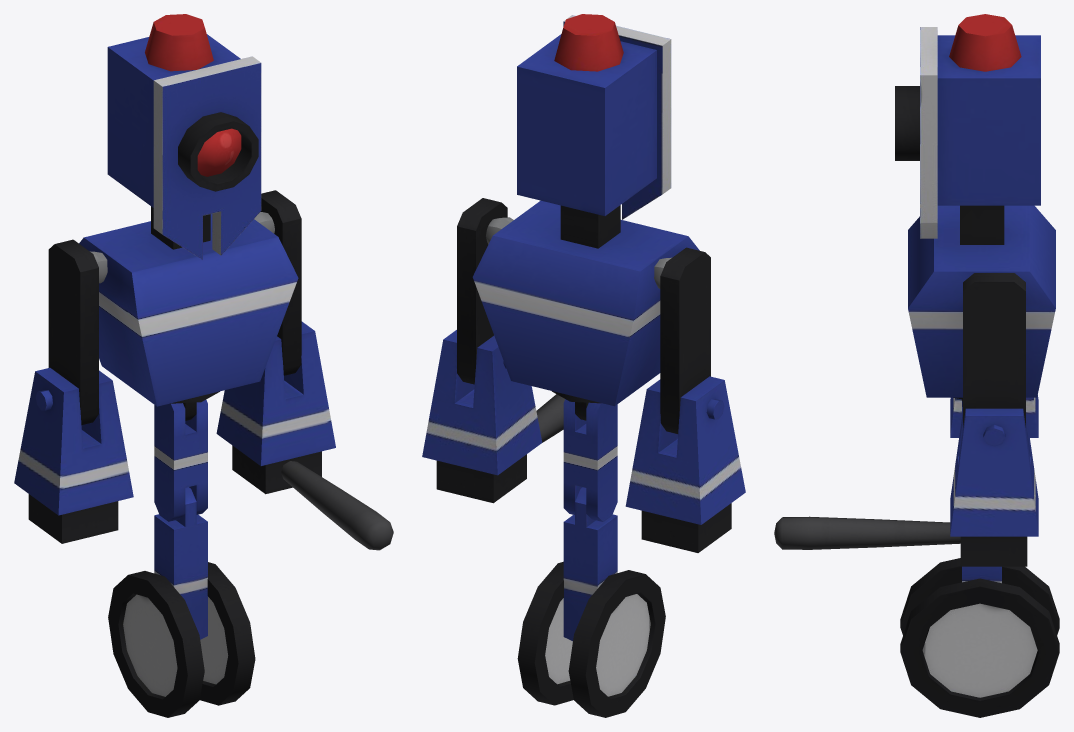
File: New Robot Size.fbx
3 views of the same model, side by side, from view 1: azimuth 30°, elevation 25°; view 2: azimuth 150°, elevation 25°; view 3: azimuth 270°, elevation 25° (orthographic).
Parts seen in each view (by area): view 1: Box096; view 2: Box096; view 3: Box096.
Part boxes in pixels (x1=…): Box096: x1=14, y1=14, x2=393, y2=717; Box096: x1=422, y1=14, x2=745, y2=717; Box096: x1=774, y1=14, x2=1059, y2=717.
Bounding box in the file's own units: 40.93 × 95.38 × 36.5.
